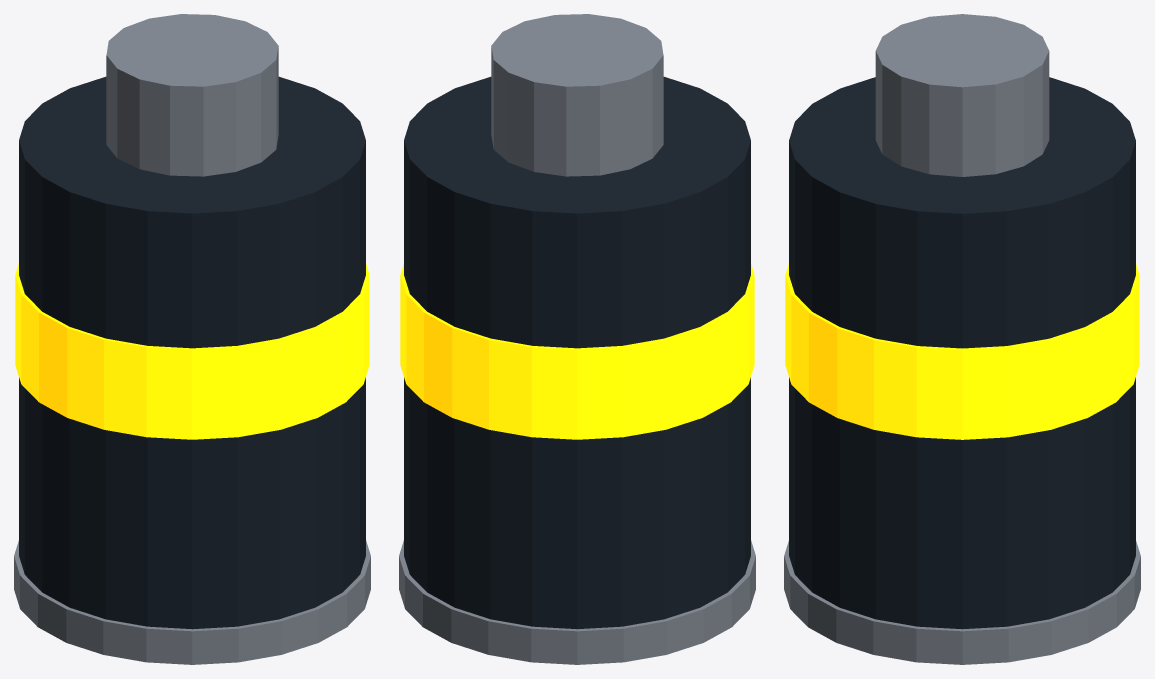
The model's file is battery.glb.
The picture shows the model from 3 angles, left to right: view 1: azimuth 30°, elevation 25°; view 2: azimuth 150°, elevation 25°; view 3: azimuth 270°, elevation 25°; orthographic projection.
Parts seen in each view (by area): view 1: body, band, cap, base; view 2: body, band, cap, base; view 3: body, band, cap, base.
Boxes of the visible parts, left/top/right/bottom form: body: left=19, top=76, right=365, bottom=629; band: left=15, top=264, right=369, bottom=439; cap: left=106, top=14, right=278, bottom=176; base: left=14, top=540, right=370, bottom=664; body: left=404, top=76, right=750, bottom=629; band: left=400, top=264, right=754, bottom=439; cap: left=491, top=14, right=663, bottom=176; base: left=399, top=540, right=755, bottom=664; body: left=789, top=77, right=1135, bottom=629; band: left=785, top=264, right=1139, bottom=439; cap: left=875, top=14, right=1049, bottom=176; base: left=784, top=541, right=1140, bottom=664.
Bounding box in the file's own units: 0.144 × 0.24 × 0.144.
